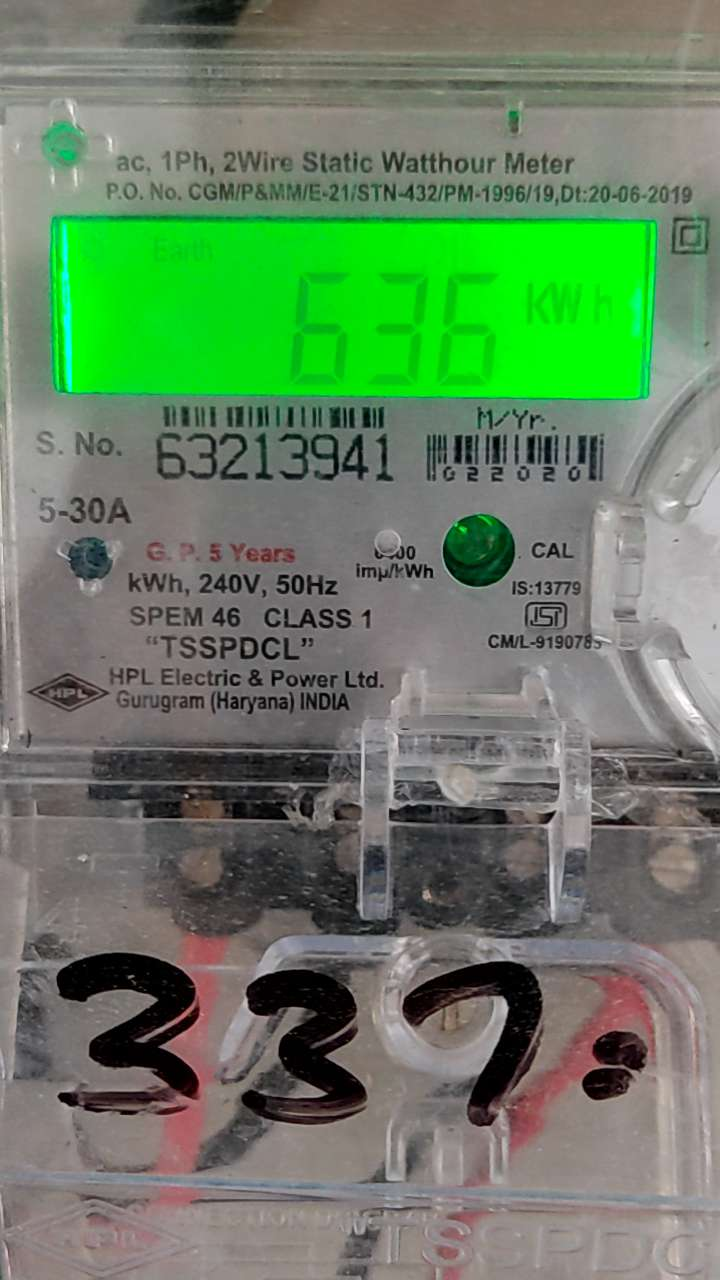meter_serial_number: (148, 426, 403, 491)
